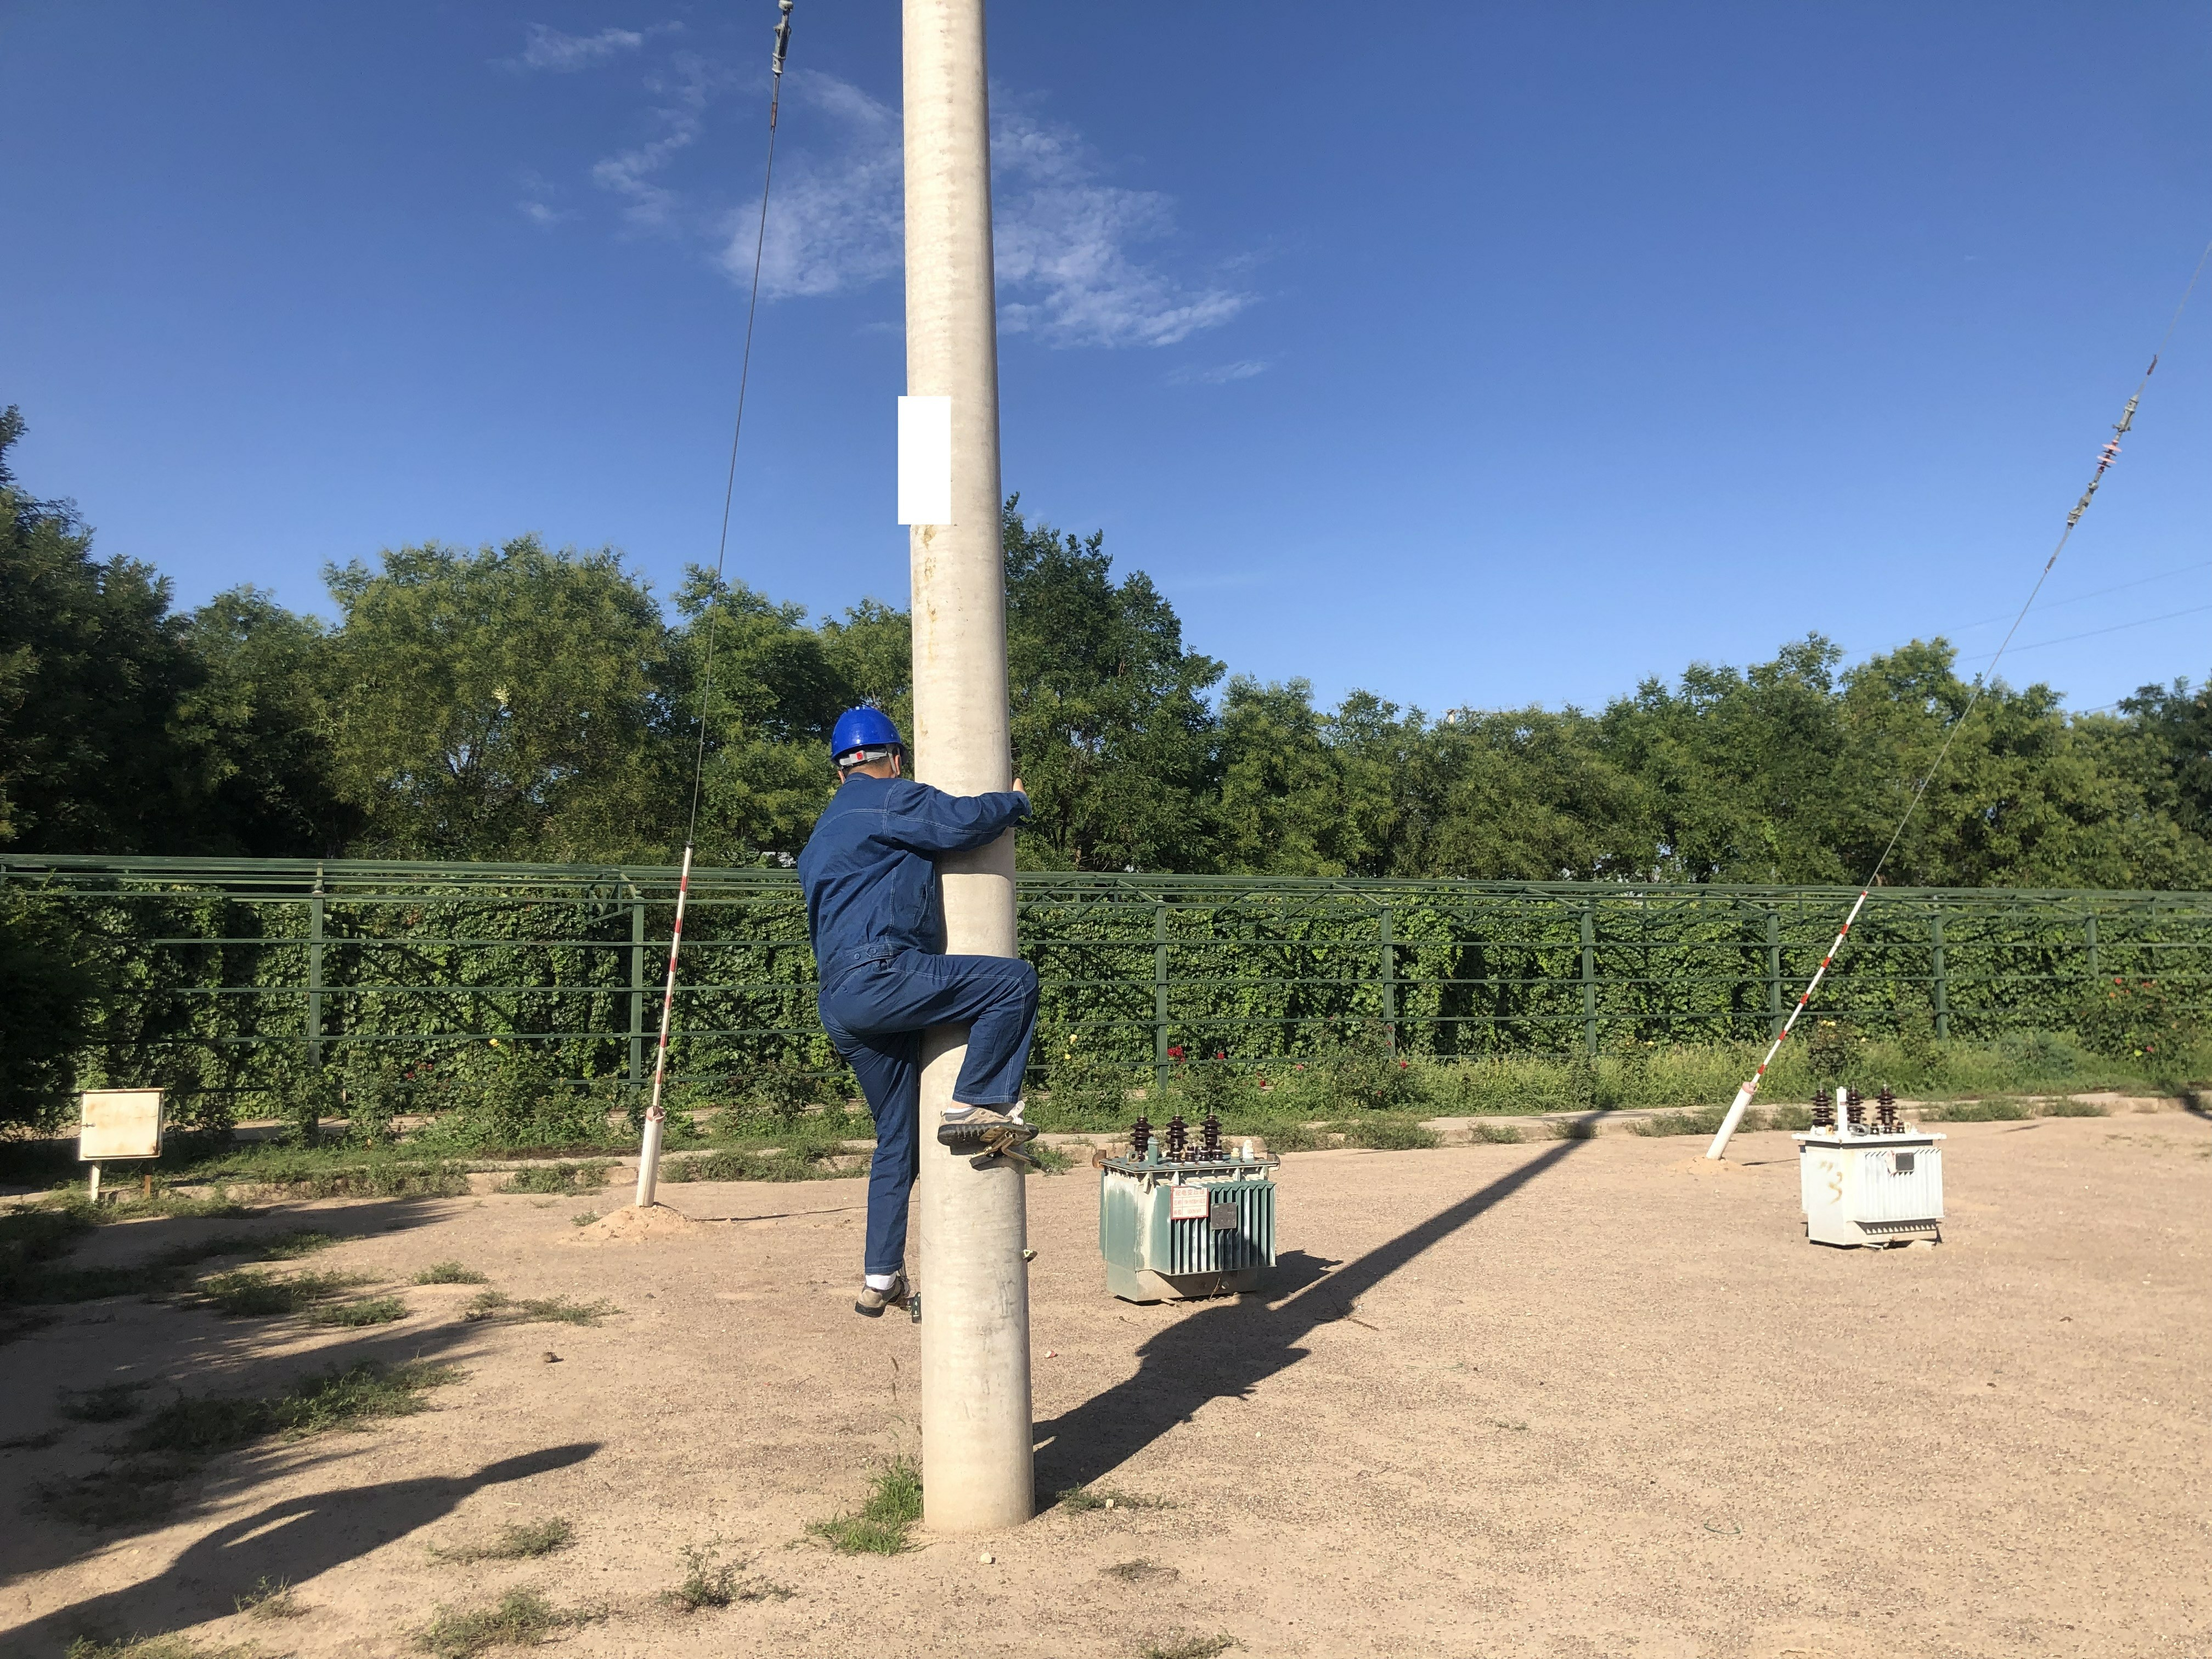hat: (820, 697, 913, 793)
